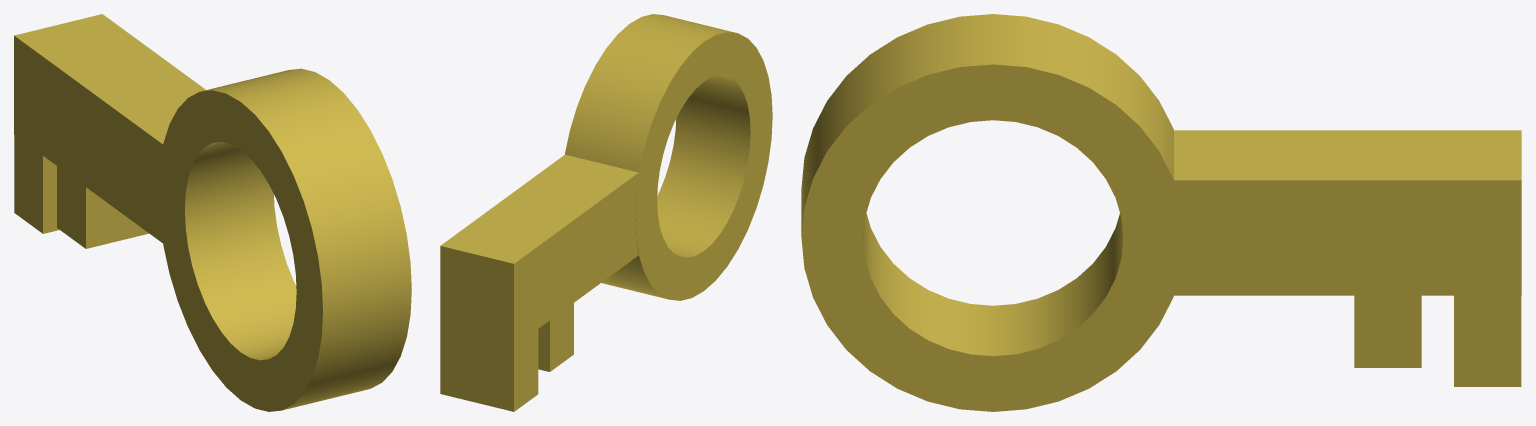
Rendered from Key.fbx.
3 renders of one model, left to right at view 1: azimuth 30°, elevation 25°; view 2: azimuth 150°, elevation 25°; view 3: azimuth 270°, elevation 25°, orthographic. The views are drawn at different scales.
Parts seen in each view (by area): view 1: Key; view 2: Key; view 3: Key.
Boxes of the visible parts, bbox=[...] form: Key: bbox=[14, 14, 411, 411]; Key: bbox=[440, 14, 772, 411]; Key: bbox=[801, 14, 1521, 411].
Bounding box in the file's own units: 78.05 × 251 × 471.
